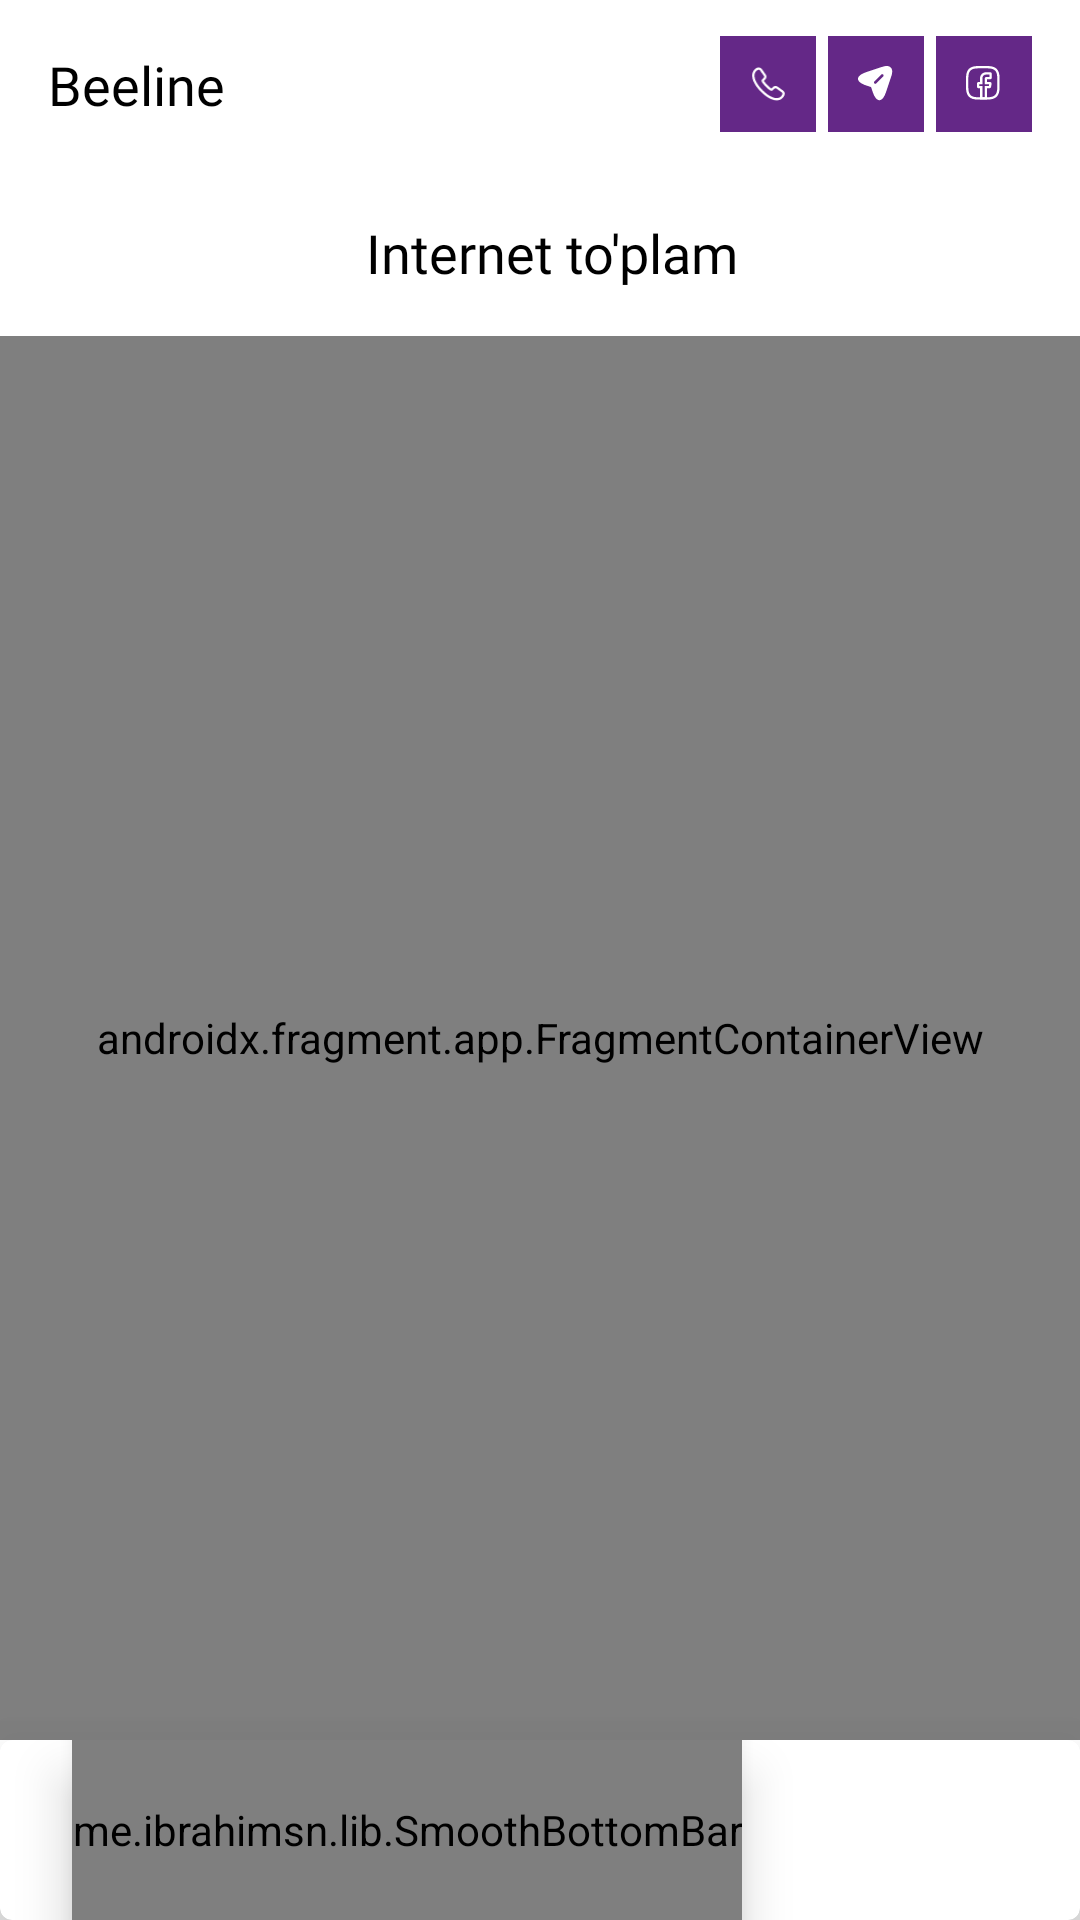

Locate icon controls on the screen. Image size 1080w x 1920h, boxes as (x1, y1, x2, y2).
call: (720, 36, 816, 132)
